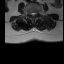CCS_normal: (32, 10, 34, 19)
LFS_stenosis: (36, 10, 38, 16)
LLS_stenosis: (34, 10, 36, 17)
RFS_stenosis: (28, 10, 30, 17)
RLS_stenosis: (30, 11, 32, 17)
